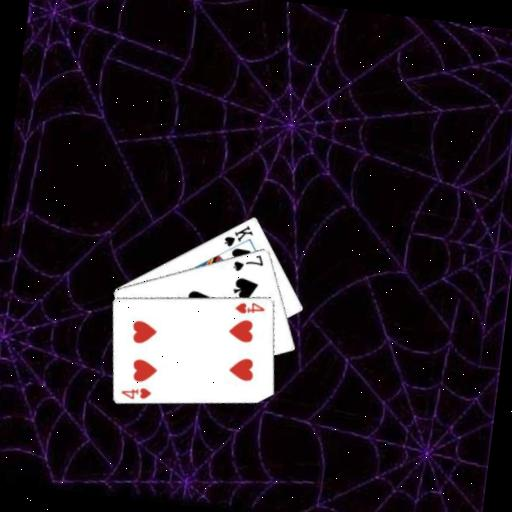4H: (118, 382, 154, 403), (232, 297, 267, 317)
7S: (230, 249, 267, 276)
KS: (220, 219, 256, 250)
